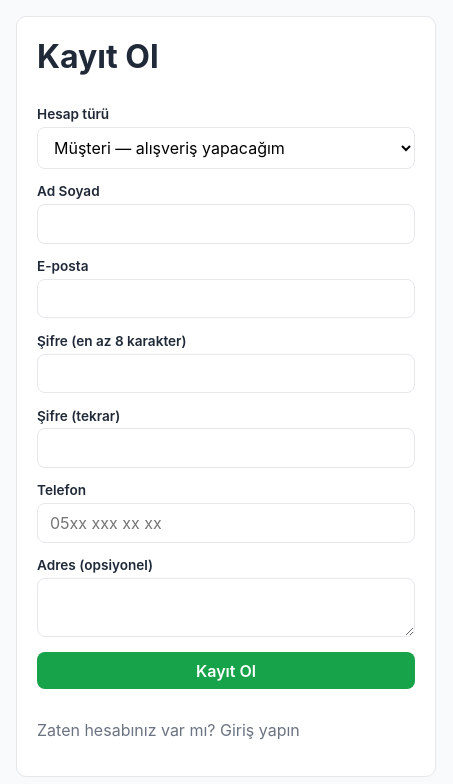
Register — hesap türü › satıcı seçilince ad alanı firma adına döner
This screenshot has width=453, height=784.
Select "Satıcı — ürün satacağım" in the dropdown labelled "Hesap türü". click: (226, 148)
box: [37,127,415,169]
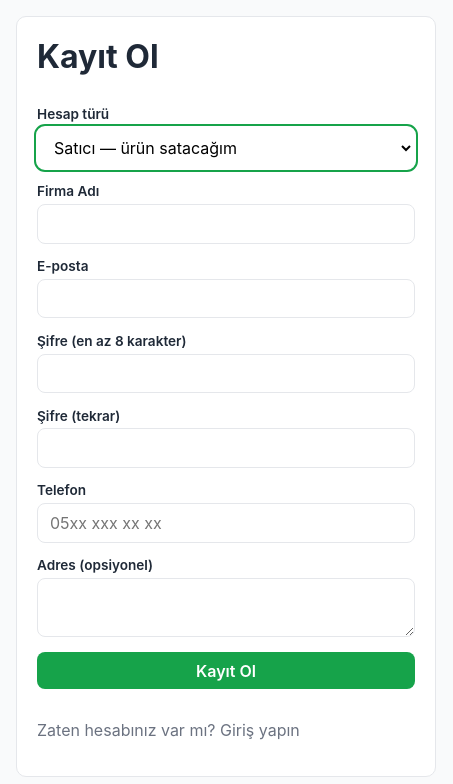
Expected: the field labelled "Firma Adı" is shown, [37,204,415,244]
Result: the label labelled "Ad Soyad" is gone
